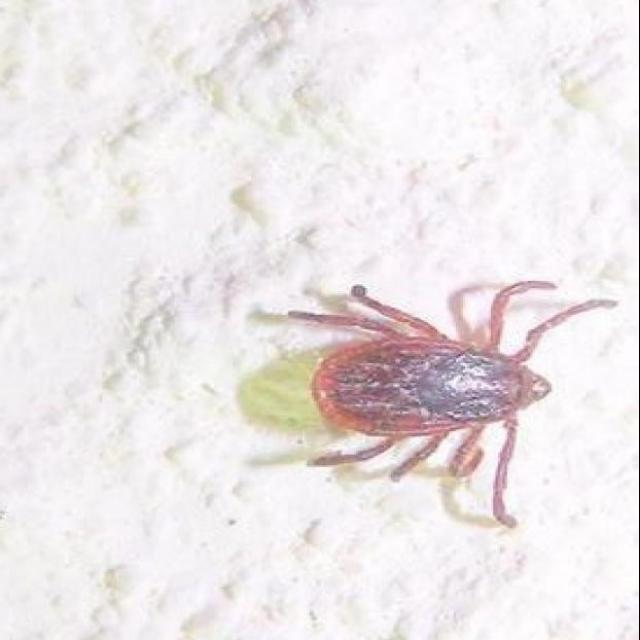Rhipicephalus Sanguineus-F: (257, 283, 601, 530)
